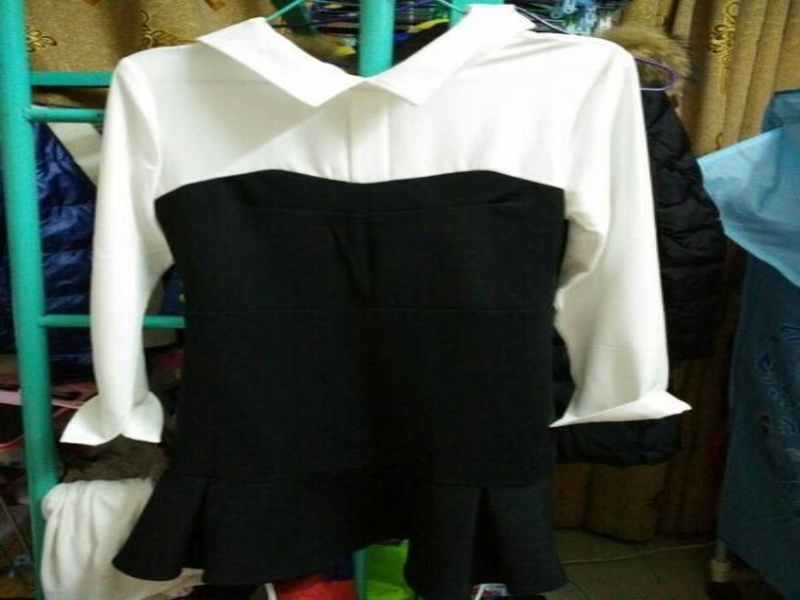long_sleeved_dress: (55, 6, 697, 599)
